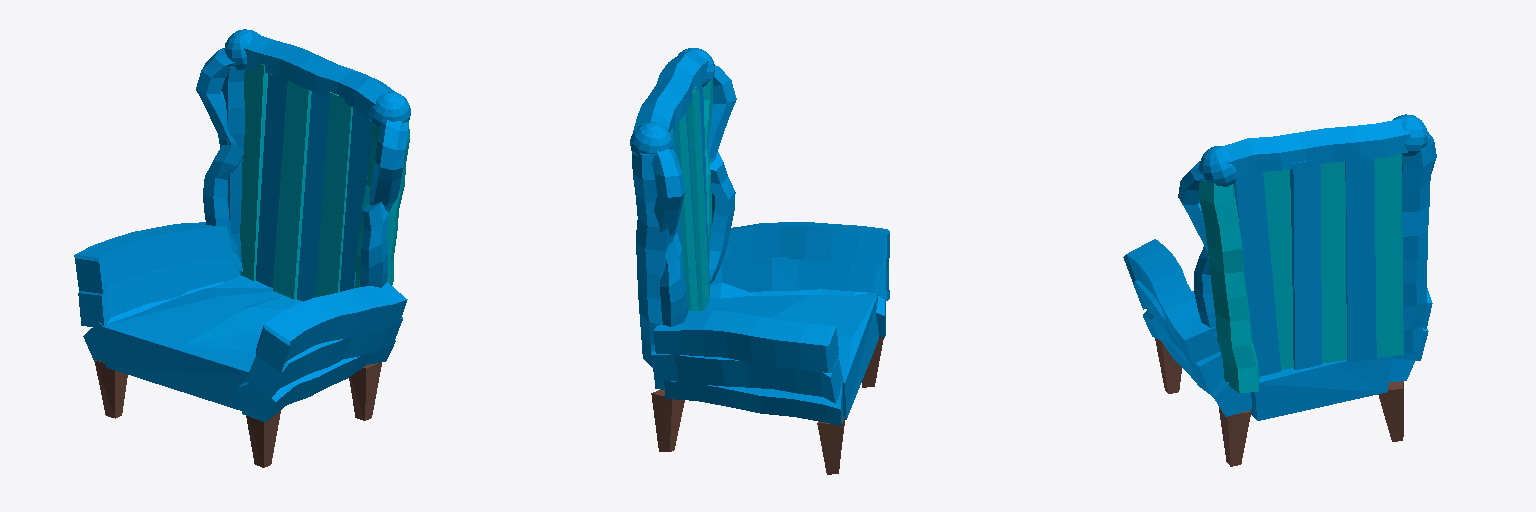
The picture shows the model from 3 angles: view 1: azimuth 30°, elevation 25°; view 2: azimuth 150°, elevation 25°; view 3: azimuth 270°, elevation 25°; orthographic projection.
Parts seen in each view (by area): view 1: group[number redacted], group[number redacted], group[number redacted], group[number redacted], group[number redacted], group[number redacted], group[number redacted], group[number redacted], group[number redacted], group[number redacted], group[number redacted], group[number redacted] (+13 smaller); view 2: group[number redacted], group[number redacted], group[number redacted], group[number redacted], group[number redacted], group[number redacted], group[number redacted], group[number redacted], group[number redacted], group[number redacted], group[number redacted], group[number redacted] (+7 smaller); view 3: group[number redacted], group[number redacted], group[number redacted], group[number redacted], group[number redacted], group[number redacted], group[number redacted], group[number redacted], group[number redacted], group[number redacted], group[number redacted], group[number redacted] (+8 smaller).
Part boxes in pixels (bbox=[...]): group[number redacted]: bbox=[101, 276, 302, 410]; group[number redacted]: bbox=[256, 282, 407, 372]; group[number redacted]: bbox=[74, 222, 232, 293]; group[number redacted]: bbox=[273, 80, 311, 299]; group[number redacted]: bbox=[78, 258, 239, 326]; group[number redacted]: bbox=[244, 33, 394, 118]; group[number redacted]: bbox=[315, 92, 352, 296]; group[number redacted]: bbox=[240, 63, 267, 280]; group[number redacted]: bbox=[256, 74, 287, 287]; group[number redacted]: bbox=[297, 92, 329, 301]; group[number redacted]: bbox=[246, 317, 402, 398]; group[number redacted]: bbox=[237, 340, 395, 422]; group[number redacted]: bbox=[653, 310, 838, 372]; group[number redacted]: bbox=[655, 293, 878, 419]; group[number redacted]: bbox=[723, 222, 889, 267]; group[number redacted]: bbox=[710, 257, 889, 300]; group[number redacted]: bbox=[651, 350, 843, 403]; group[number redacted]: bbox=[632, 153, 676, 367]; group[number redacted]: bbox=[664, 381, 842, 425]; group[number redacted]: bbox=[633, 49, 708, 132]; group[number redacted]: bbox=[687, 86, 709, 310]; group[number redacted]: bbox=[709, 152, 735, 283]; group[number redacted]: bbox=[652, 149, 684, 243]; group[number redacted]: bbox=[676, 113, 698, 310]; group[number redacted]: bbox=[1199, 180, 1260, 392]; group[number redacted]: bbox=[1222, 119, 1409, 177]; group[number redacted]: bbox=[1290, 160, 1321, 369]; group[number redacted]: bbox=[1345, 158, 1376, 362]; group[number redacted]: bbox=[1192, 291, 1392, 420]; group[number redacted]: bbox=[1374, 154, 1403, 357]; group[number redacted]: bbox=[1234, 172, 1280, 376]; group[number redacted]: bbox=[1402, 136, 1432, 353]; group[number redacted]: bbox=[1320, 161, 1346, 363]; group[number redacted]: bbox=[1123, 239, 1220, 366]; group[number redacted]: bbox=[1263, 169, 1293, 369]; group[number redacted]: bbox=[1143, 310, 1251, 416].
Bounding box in the file's own units: 0.7753 × 1 × 0.8585.